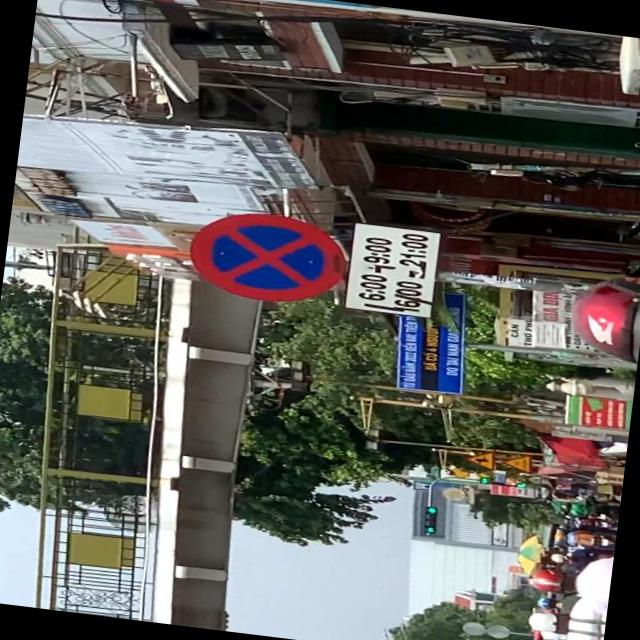P-130: (186, 208, 352, 310)
